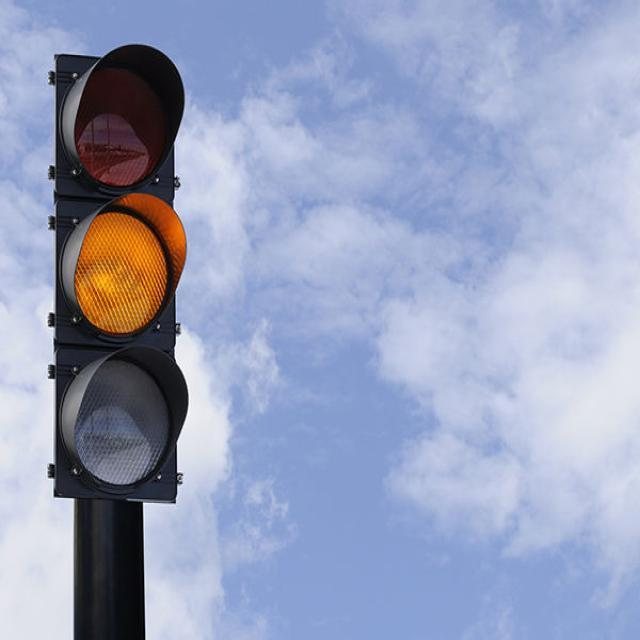yellow_light: (47, 43, 187, 499)
